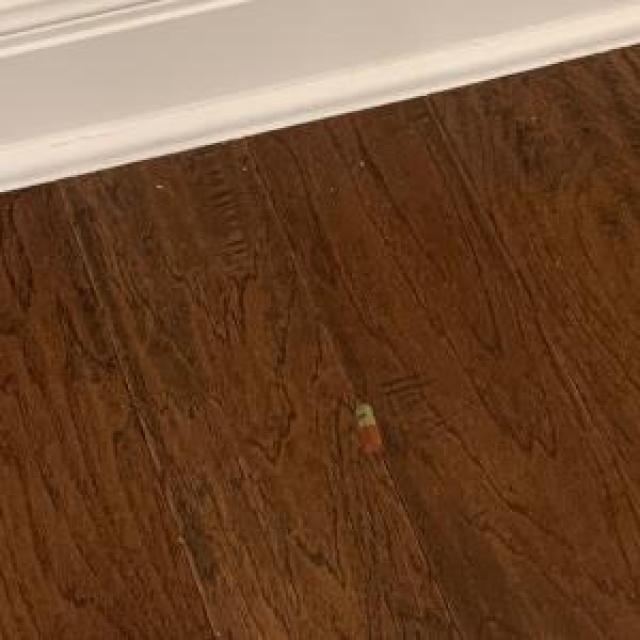Alaxan: (346, 394, 391, 458)
